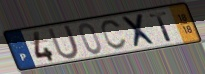0: (78, 22, 104, 56)
4: (33, 30, 56, 63)
C: (100, 18, 129, 52)
T: (148, 10, 174, 43)
U: (46, 23, 81, 61)
X: (119, 13, 159, 50)
